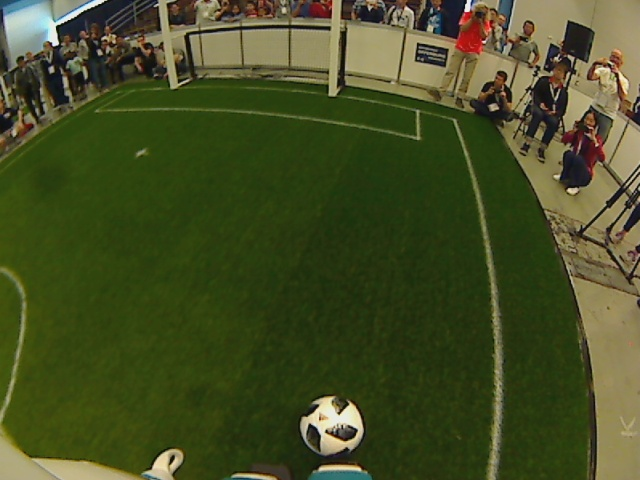ball: (298, 395, 366, 460)
